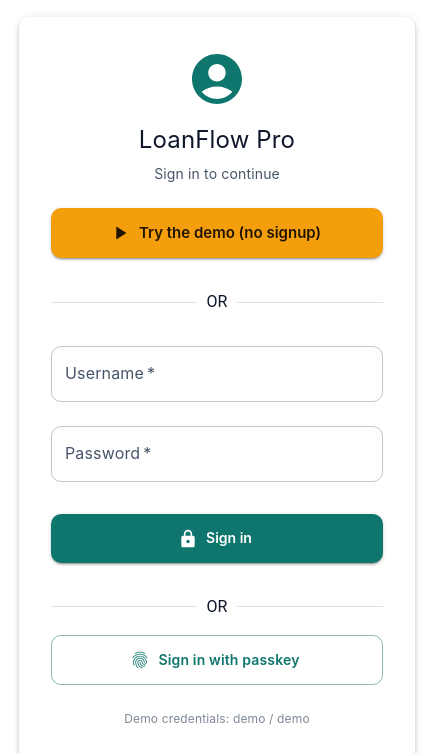
Scenario: <LoginPage /> › shows an error on invalid credentials
The width and height of the screenshot is (435, 753).
In the field labelled "Username *": (217,374) [51,346,383,402], type "wrong"
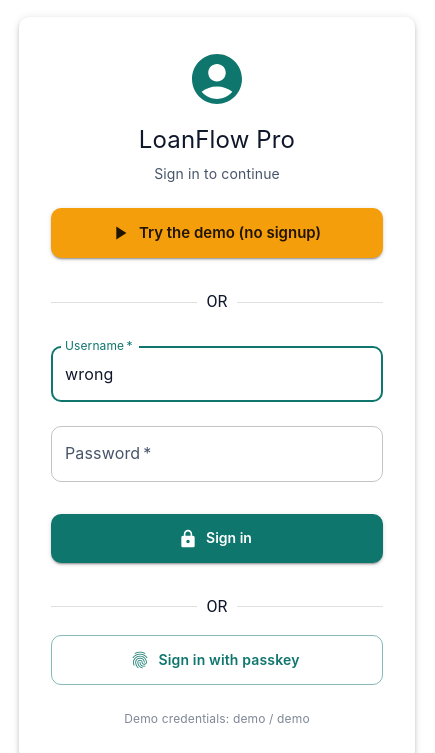
In the password field labelled "Password *": (217,454) [51,426,383,482], type "wrong"
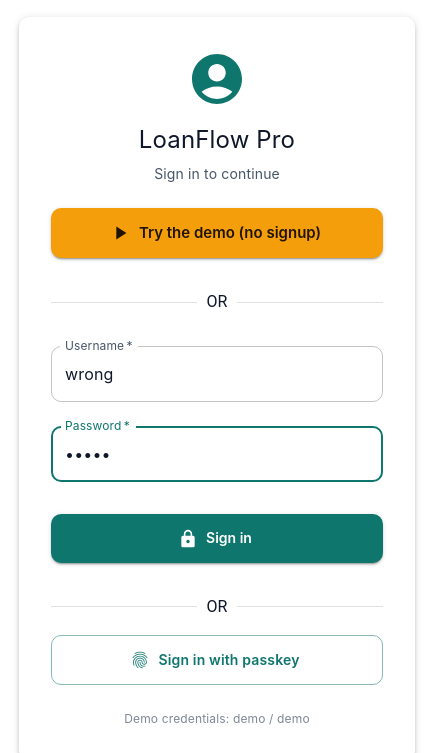
Click the button "Sign in": (217,539) [51,514,383,563]
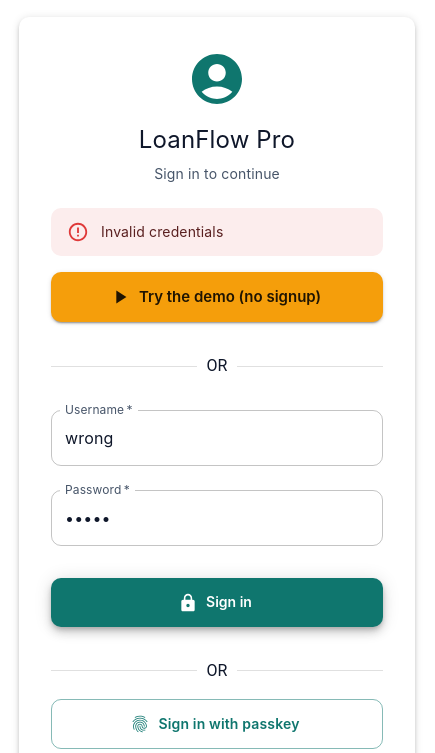
Now the text "Invalid credentials" is shown, box [101,223,224,240]
